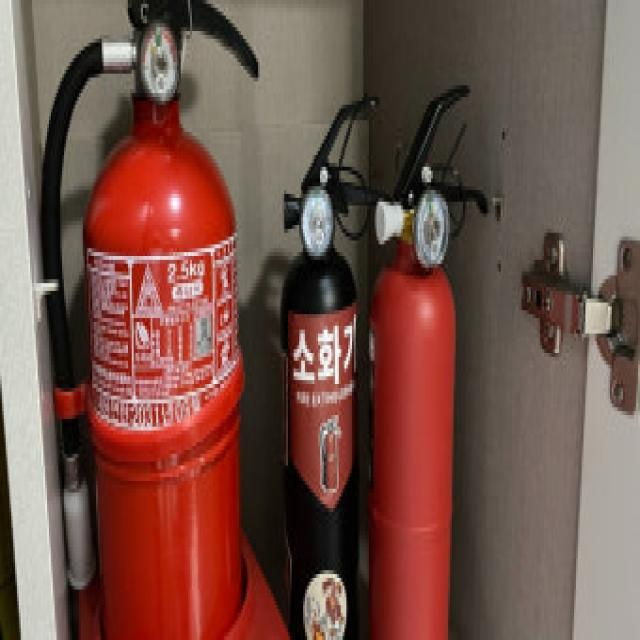pressure gauge: (137, 19, 179, 101), (412, 190, 448, 264), (299, 186, 331, 252)
